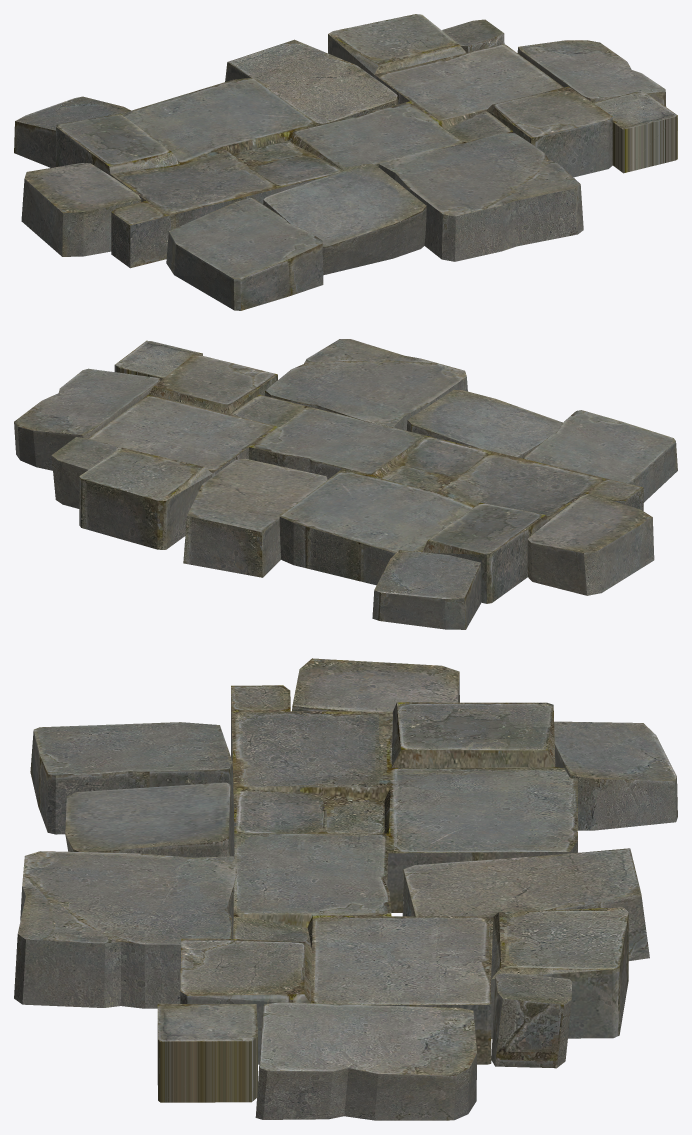
The model's file is bg_lut_lucastle_streetfloor02d_sm_psy.FBX.
3 views of the same model, one above another, from view 1: azimuth 30°, elevation 25°; view 2: azimuth 150°, elevation 25°; view 3: azimuth 270°, elevation 25° (orthographic). The views are drawn at different scales.
Parts seen in each view (by area): view 1: bg_lut_lucastle_streetfloor02d_sm_psy; view 2: bg_lut_lucastle_streetfloor02d_sm_psy; view 3: bg_lut_lucastle_streetfloor02d_sm_psy.
Boxes of the visible parts, <box> form: bg_lut_lucastle_streetfloor02d_sm_psy: <box>14,14,677,310</box>; bg_lut_lucastle_streetfloor02d_sm_psy: <box>14,339,677,629</box>; bg_lut_lucastle_streetfloor02d_sm_psy: <box>14,658,677,1120</box>.
Size of the model in its own units: 376 by 30 by 262.
